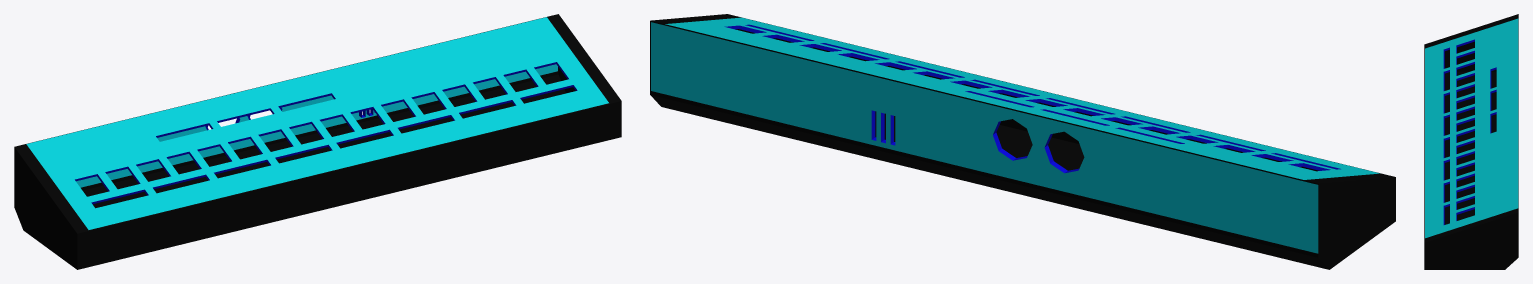
3 views of the same model, side by side, from view 1: azimuth 30°, elevation 25°; view 2: azimuth 150°, elevation 25°; view 3: azimuth 270°, elevation 25° (orthographic). The views are drawn at different scales.
Parts seen in each view (by area): view 1: Base; view 2: Base; view 3: Base.
Boxes of the visible parts, <box> form: Base: <box>14,14,621,269</box>; Base: <box>650,14,1395,269</box>; Base: <box>1424,14,1518,269</box>.
Bounding box in the file's own units: 0.2007 × 0.0271 × 0.0403.
